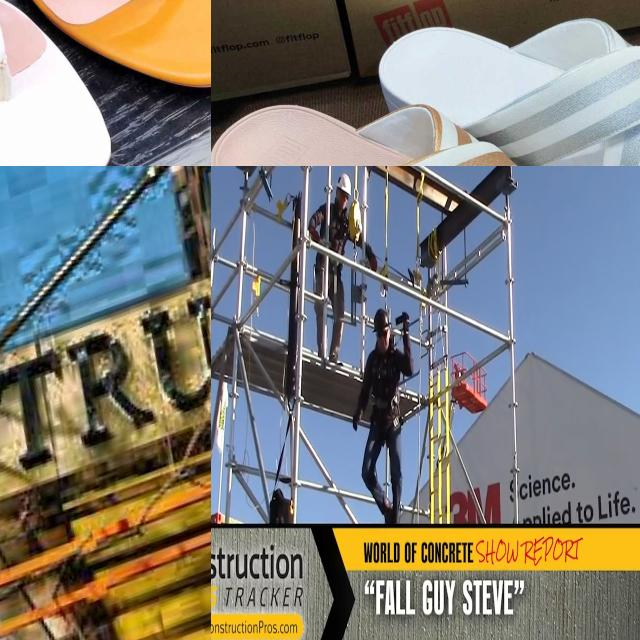Harness: (369, 339, 403, 444), (314, 204, 348, 302)
Sandals: (348, 0, 640, 166), (211, 68, 640, 166), (0, 0, 122, 166), (0, 0, 211, 95)
